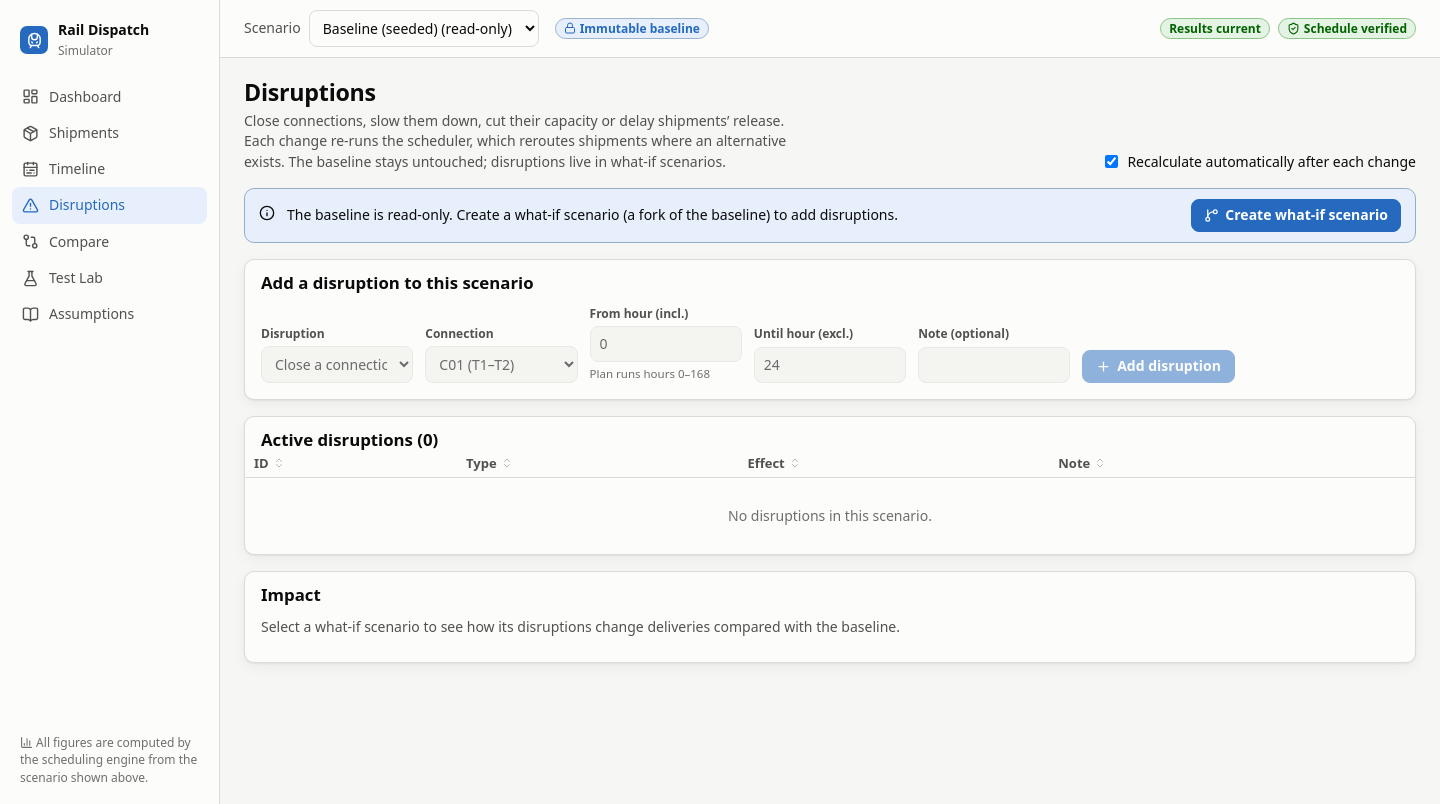
it: disruptions page › rejects a closure whose end precedes its start
Click the button "Create what-if scenario" at point(1296, 215), box [1191, 199, 1401, 232]
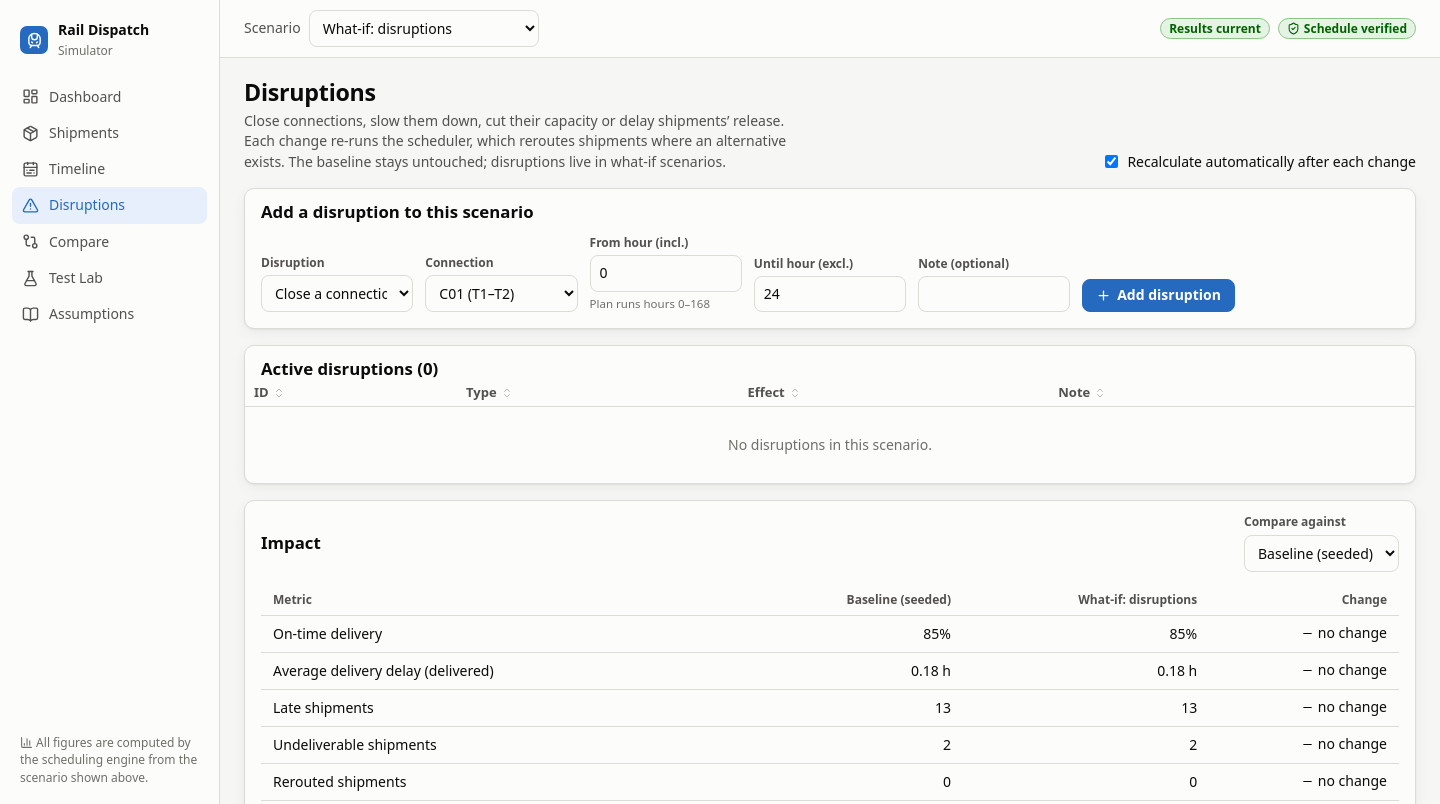
Replace the text in the number field labelled "From hour (incl.)" with "30" at point(666, 273), box [590, 255, 742, 292]
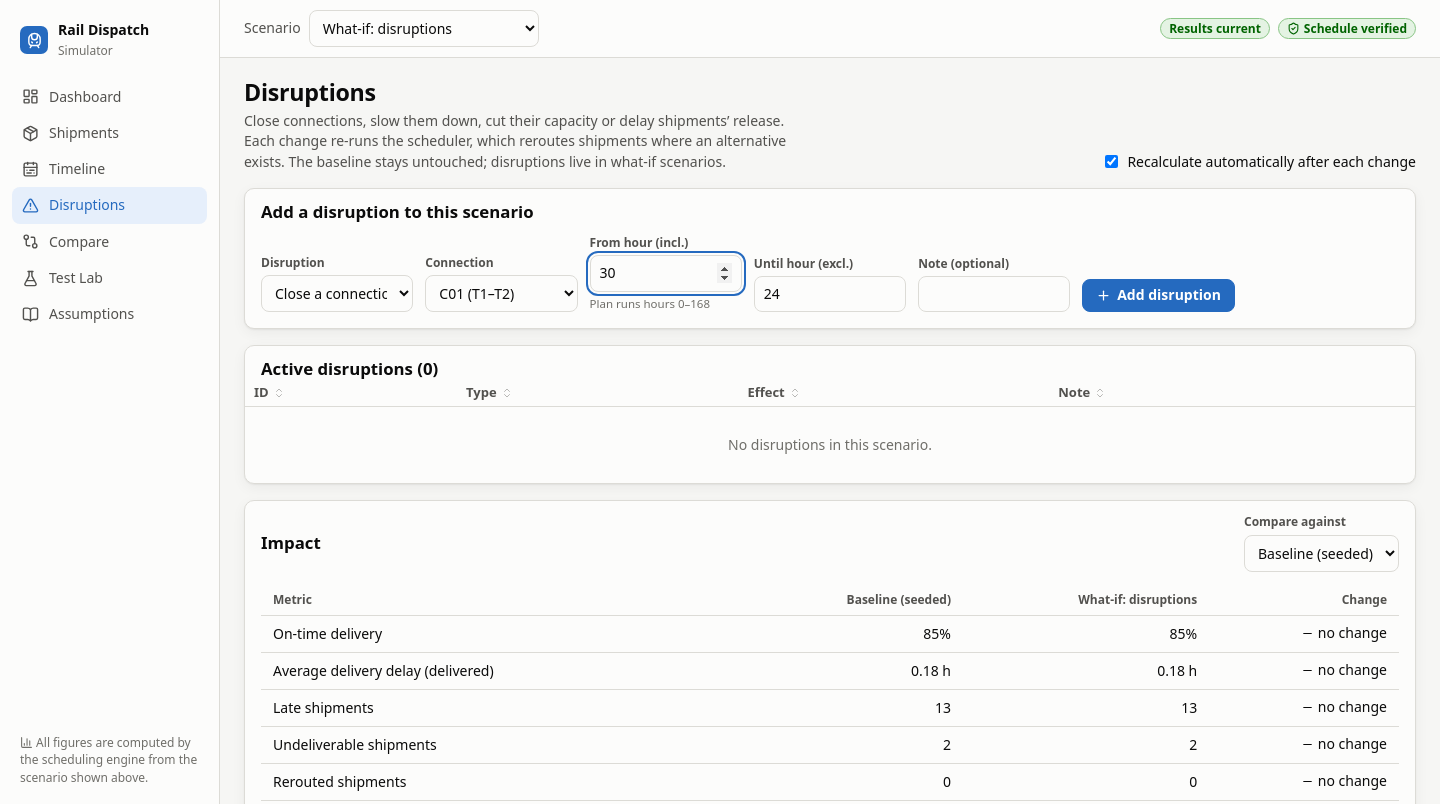
Replace the text in the number field labelled "Until hour (excl.)" with "10" at point(830, 294), box [754, 276, 906, 312]
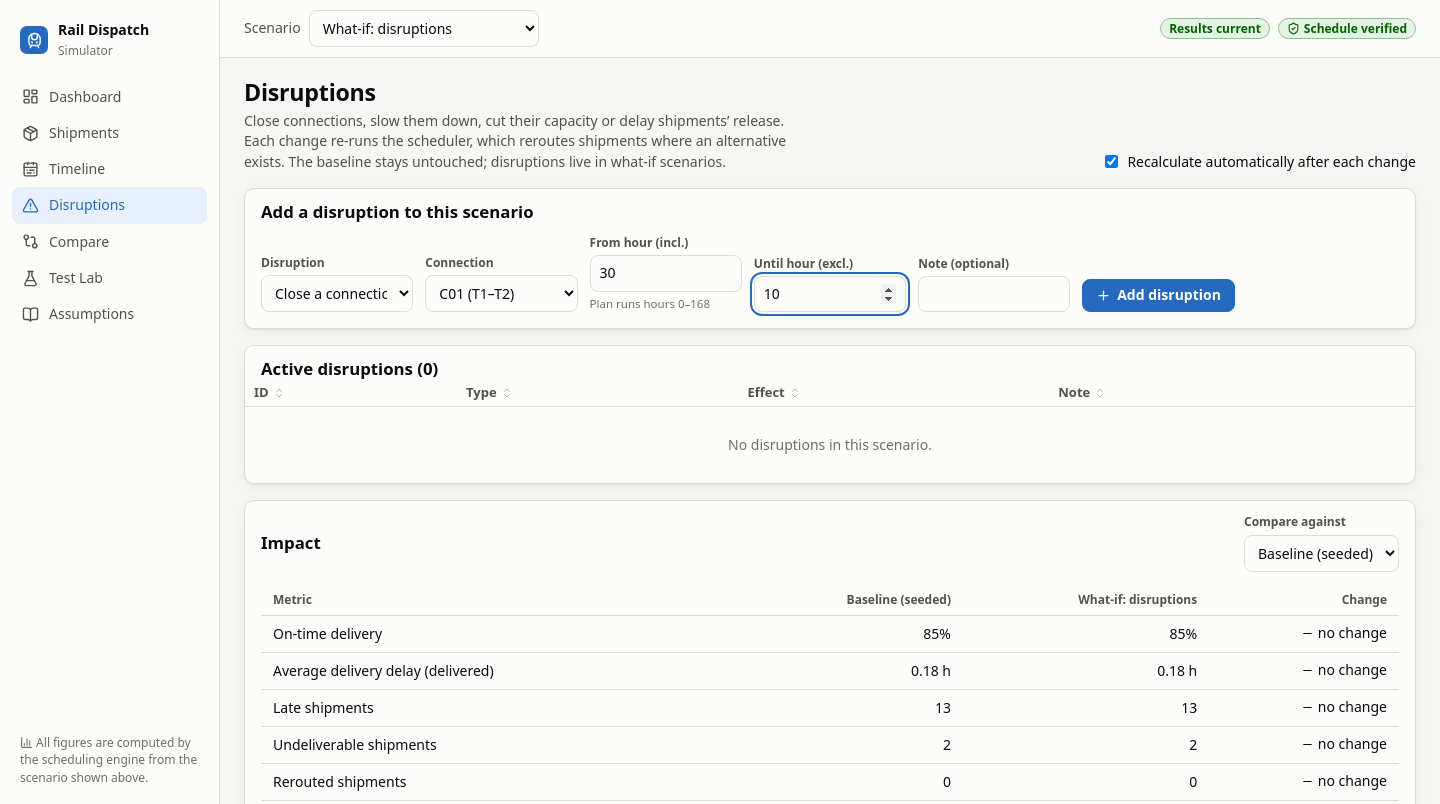
Click the button "Add disruption" at point(1159, 296), box [1082, 279, 1235, 312]
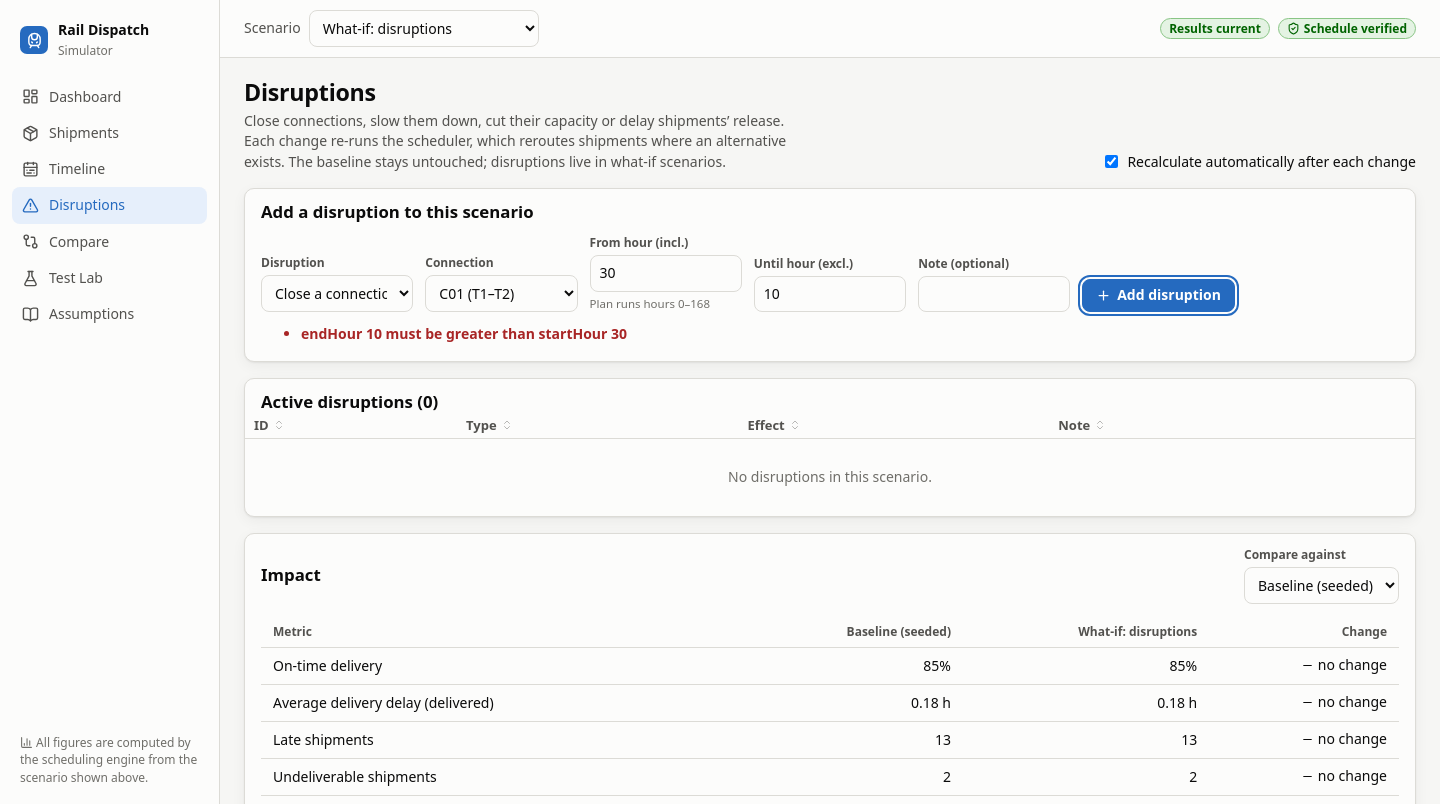
Expected: the heading "Active disruptions (0)" is shown, [261, 390, 438, 412]
Expected: the message shows "must be greater than startHour", [301, 324, 627, 343]
